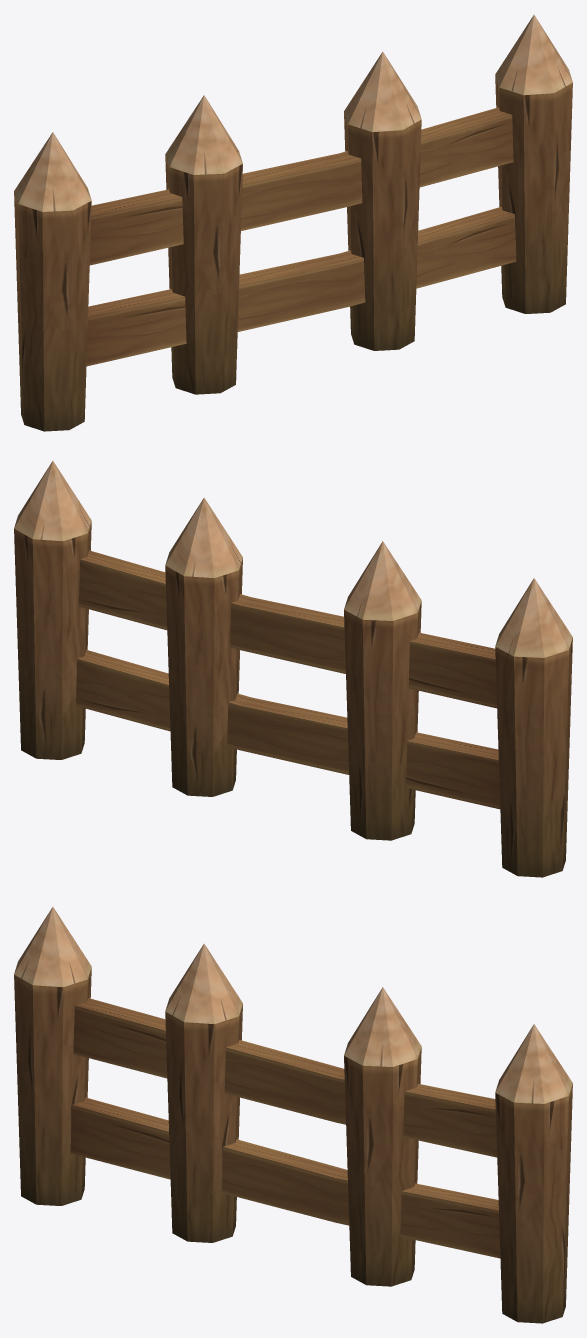
File: wooden_fence_28.fbx
3 renders of one model, top to bottom at view 1: azimuth 30°, elevation 25°; view 2: azimuth 150°, elevation 25°; view 3: azimuth 330°, elevation 25°, orthographic.
Parts seen in each view (by area): view 1: wooden_fence_28:Mesh; view 2: wooden_fence_28:Mesh; view 3: wooden_fence_28:Mesh.
Part boxes in pixels (<box>): wooden_fence_28:Mesh: <box>14,15,572,431</box>; wooden_fence_28:Mesh: <box>14,461,572,877</box>; wooden_fence_28:Mesh: <box>14,907,572,1323</box>.
Size of the model in its own units: 7.29 by 3.62 by 0.9226.
